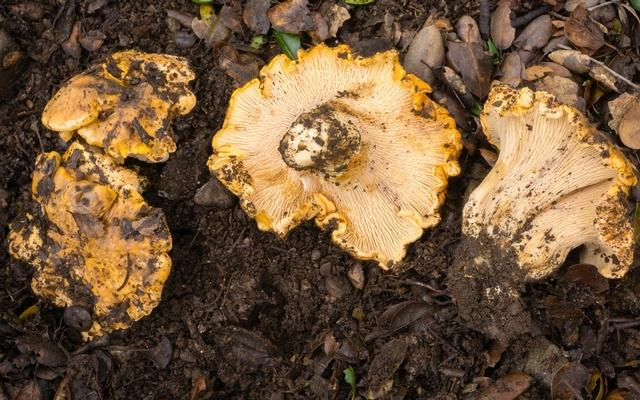Edible Mushroom: (205, 41, 463, 271), (459, 82, 637, 284), (6, 140, 173, 342), (40, 47, 196, 164)
